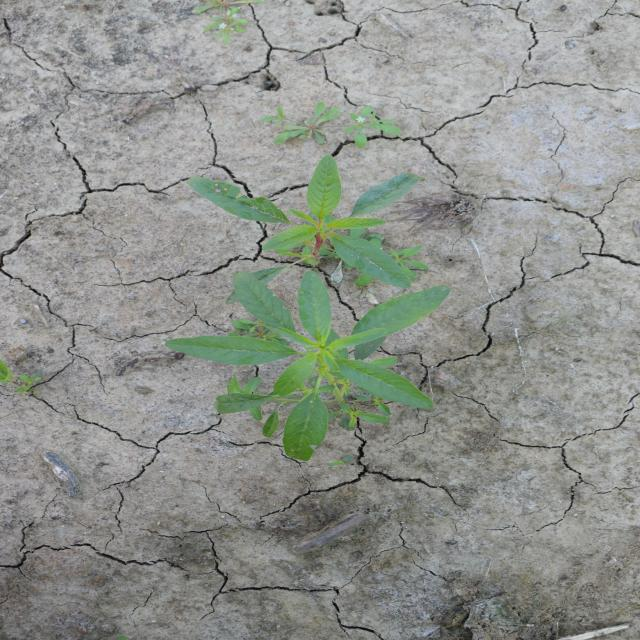Carpetweed: (258, 100, 404, 150), (190, 0, 253, 47)
Waterhemp: (162, 269, 452, 462), (180, 152, 433, 305)
